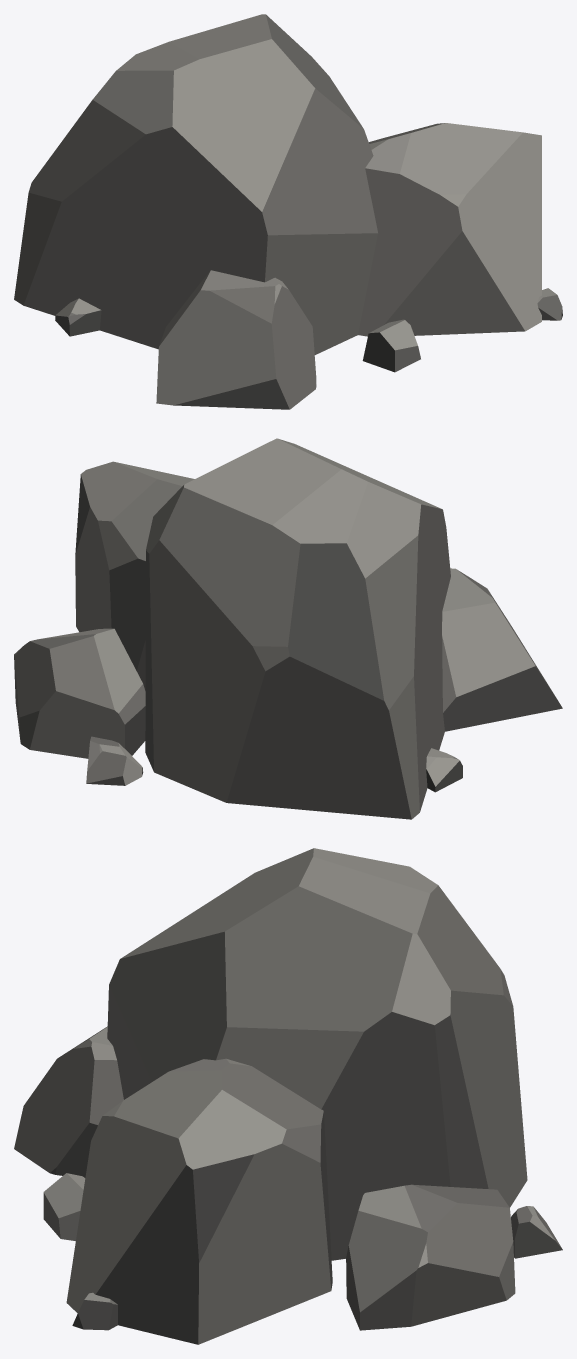
Rendered from rock_stone_a.fbx.
The picture shows the model from 3 angles, top to bottom: view 1: azimuth 30°, elevation 25°; view 2: azimuth 150°, elevation 25°; view 3: azimuth 270°, elevation 25°; orthographic projection. The views are drawn at different scales.
Parts seen in each view (by area): view 1: rock_stone_a; view 2: rock_stone_a; view 3: rock_stone_a.
Boxes of the visible parts, box(x1,y1,x2,y2) form: rock_stone_a: box(14, 14, 562, 409); rock_stone_a: box(14, 438, 562, 819); rock_stone_a: box(14, 848, 562, 1344).
Bounding box in the file's own units: 1.56 × 0.9274 × 1.44.
